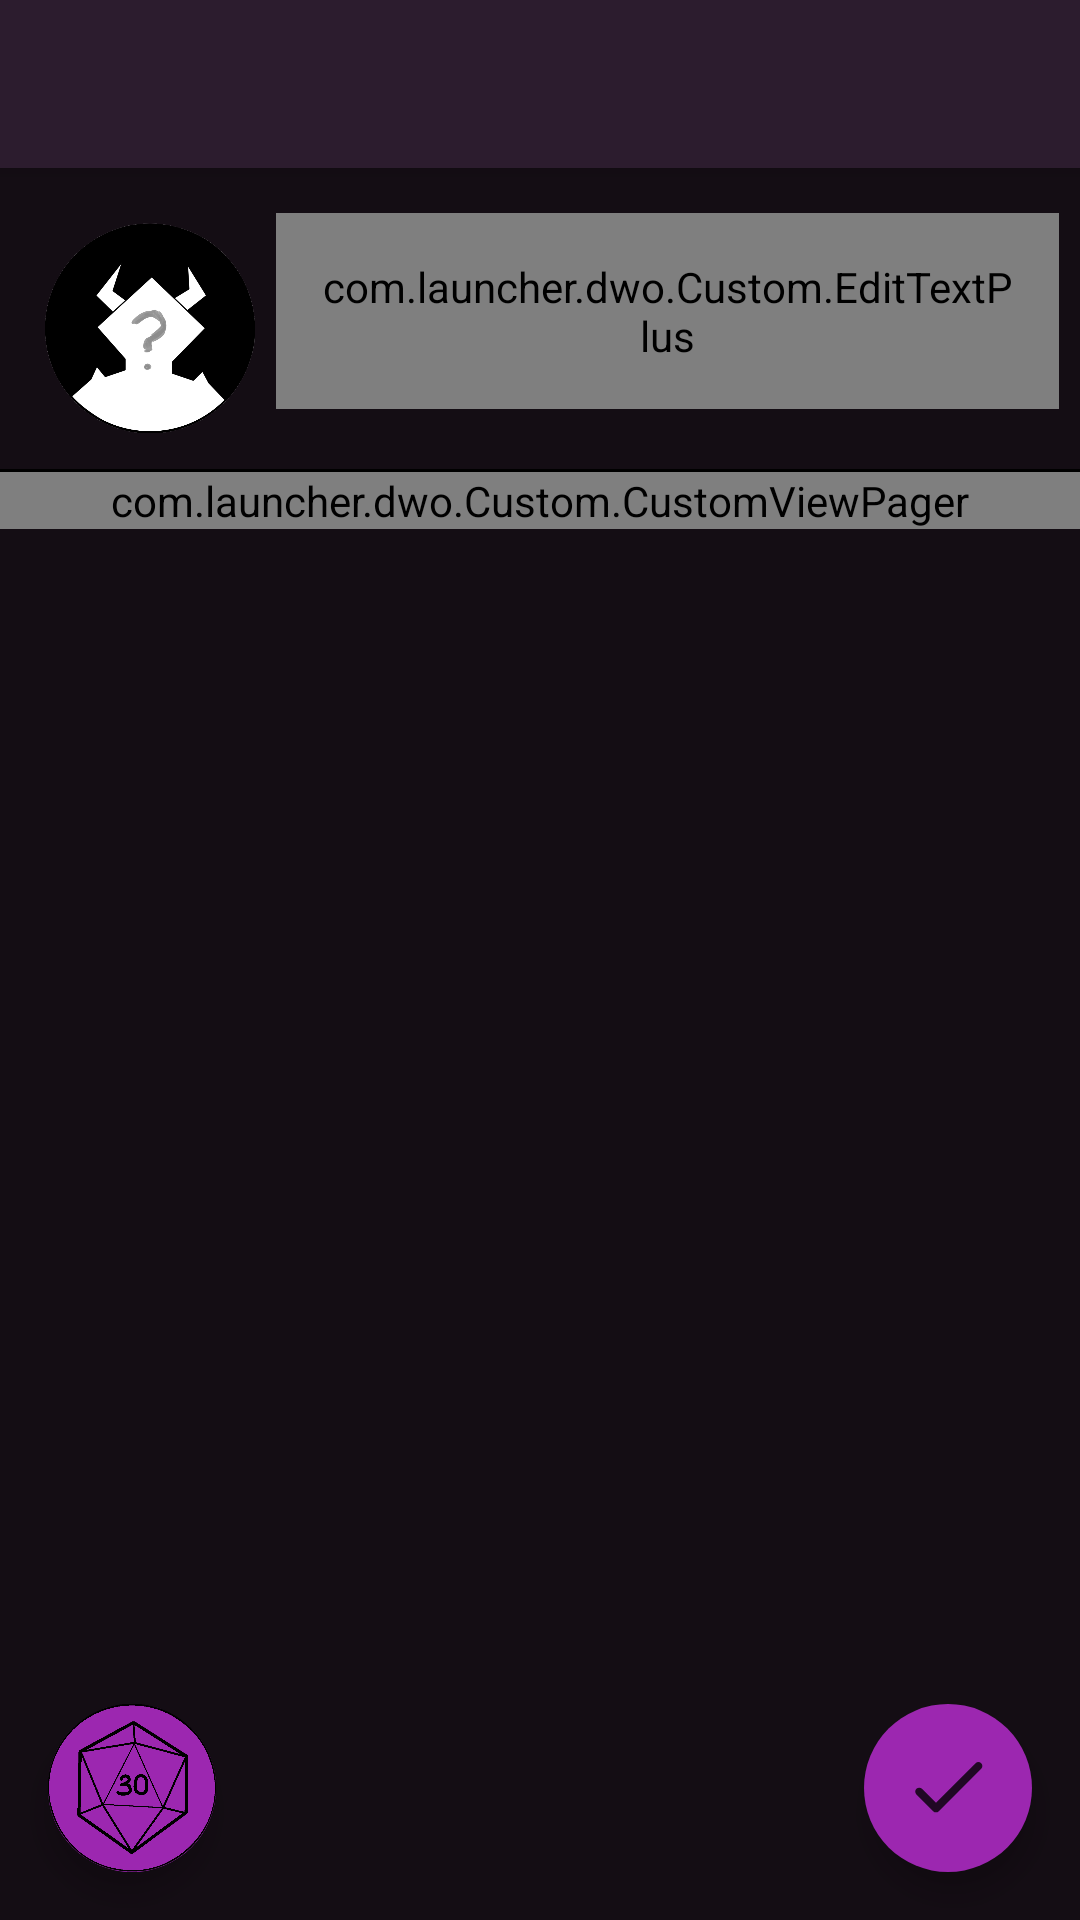

Icons on this 1080*1920 Android screen, each with the point to tap as (x,y):
mini: (150,328)
mini roll: (132,1788)
